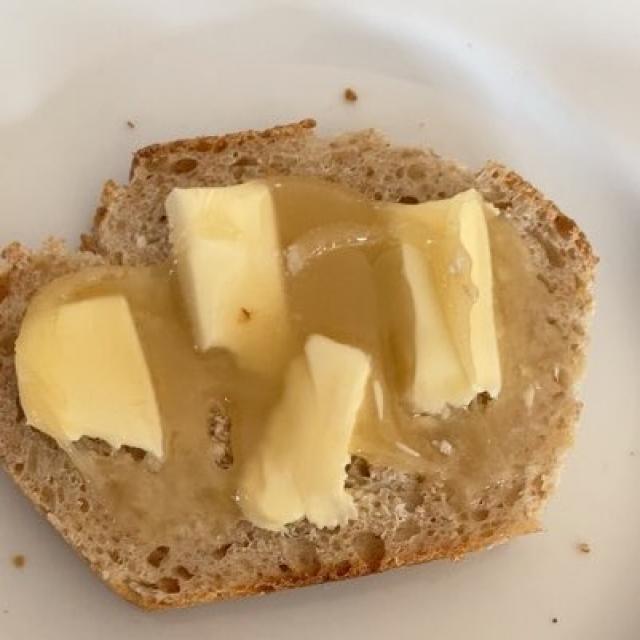bread: (12, 146, 582, 601)
butter: (12, 182, 500, 532)
honey: (30, 171, 538, 530)
